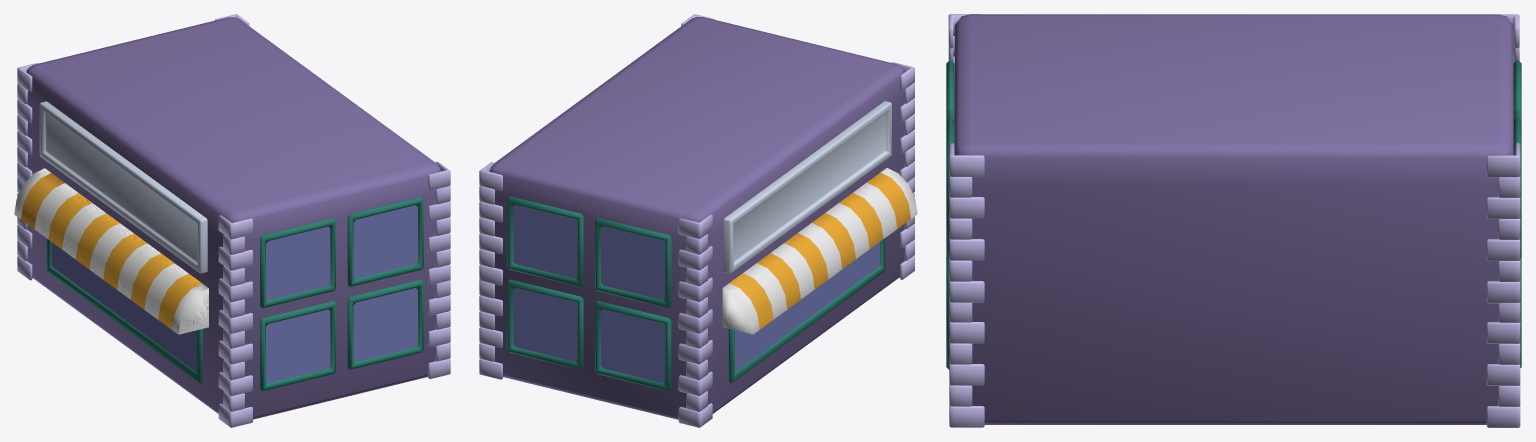
The model's file is Market_without_sign.fbx.
3 views of the same model, side by side, from view 1: azimuth 30°, elevation 25°; view 2: azimuth 150°, elevation 25°; view 3: azimuth 270°, elevation 25° (orthographic). The views are drawn at different scales.
Parts seen in each view (by area): view 1: Plane.922, Circle.006, Plane.924, Cube.219, Cube.217, Cube.218, Cube.216, Cube.215, Plane.929, Plane.928, Plane.925, Plane.927 (+9 smaller); view 2: Plane.922, Circle.006, Plane.924, Cube.220, Cube.222, Cube.223, Cube.221, Cube.215, Plane.930, Plane.931, Plane.932, Plane.933 (+9 smaller); view 3: Plane.922, Plane.972, Plane.985, Plane.973, Plane.975, Plane.977, Plane.979, Plane.981, Plane.983, Plane.966, Plane.960, Plane.962 (+4 smaller).
Boxes of the visible parts, x1=… form: Plane.922: x1=26, y1=17, x2=440, y2=419; Circle.006: x1=14, y1=168, x2=208, y2=334; Plane.924: x1=39, y1=101, x2=207, y2=273; Cube.219: x1=353, y1=288, x2=417, y2=361; Cube.217: x1=266, y1=309, x2=330, y2=382; Cube.218: x1=353, y1=205, x2=417, y2=278; Cube.216: x1=266, y1=226, x2=330, y2=300; Cube.215: x1=51, y1=242, x2=196, y2=372; Plane.929: x1=347, y1=279, x2=423, y2=369; Plane.928: x1=347, y1=196, x2=423, y2=286; Plane.925: x1=46, y1=238, x2=202, y2=383; Plane.927: x1=260, y1=301, x2=335, y2=391; Plane.922: x1=489, y1=17, x2=904, y2=419; Circle.006: x1=722, y1=168, x2=917, y2=334; Plane.924: x1=723, y1=101, x2=891, y2=273; Cube.220: x1=513, y1=205, x2=577, y2=278; Cube.222: x1=601, y1=226, x2=665, y2=299; Cube.223: x1=601, y1=309, x2=665, y2=382; Cube.221: x1=513, y1=288, x2=577, y2=361; Cube.215: x1=735, y1=242, x2=879, y2=371; Plane.930: x1=507, y1=196, x2=583, y2=286; Plane.931: x1=507, y1=279, x2=583, y2=369; Plane.932: x1=595, y1=218, x2=671, y2=308; Plane.933: x1=595, y1=301, x2=671, y2=391; Plane.922: x1=954, y1=14, x2=1513, y2=424; Plane.972: x1=1486, y1=142, x2=1520, y2=177; Plane.985: x1=949, y1=143, x2=984, y2=176; Plane.973: x1=949, y1=405, x2=984, y2=427; Plane.975: x1=949, y1=363, x2=984, y2=385; Plane.977: x1=949, y1=321, x2=984, y2=343; Plane.979: x1=949, y1=281, x2=984, y2=302; Plane.981: x1=949, y1=239, x2=984, y2=260; Plane.983: x1=949, y1=197, x2=984, y2=218; Plane.966: x1=1486, y1=281, x2=1520, y2=303; Plane.960: x1=1486, y1=406, x2=1520, y2=427; Plane.962: x1=1486, y1=364, x2=1520, y2=385.
Size of the model in its own units: 980 by 794 by 1476.
